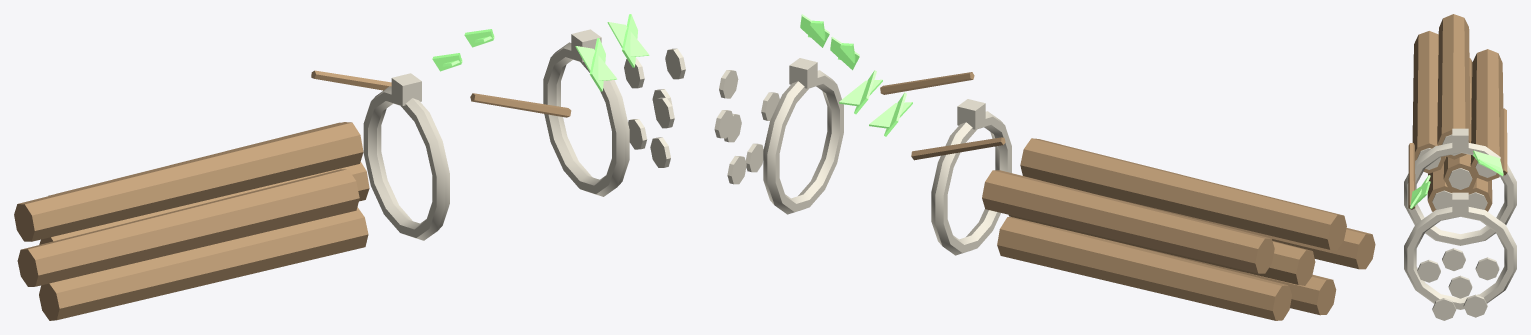
File: pickups-and-collectibles-wood-bundle-d9f3119b__19910.glb
3 views of the same model, side by side, from view 1: azimuth 30°, elevation 25°; view 2: azimuth 150°, elevation 25°; view 3: azimuth 270°, elevation 25° (orthographic). The views are drawn at different scales.
Parts seen in each view (by area): view 1: body/timber, body/bone, body/verdant; view 2: body/timber, body/bone, body/verdant; view 3: body/timber, body/bone, body/verdant.
Part boxes in pixels (x1,y1,x2,y2): body/timber: (14, 70, 571, 320); body/bone: (363, 29, 685, 240); body/verdant: (432, 14, 649, 91); body/timber: (880, 72, 1375, 320); body/bone: (714, 58, 1011, 255); body/verdant: (800, 14, 912, 136); body/timber: (1408, 14, 1507, 211); body/bone: (1404, 128, 1516, 320); body/verdant: (1410, 150, 1503, 208).
Size of the model in its own units: 1.04 by 0.2795 by 0.2086.
